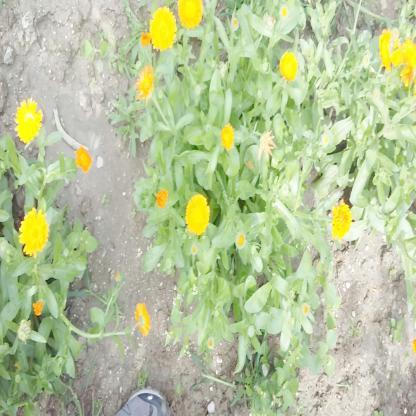marigold: (149, 6, 177, 54), (20, 211, 47, 257), (328, 195, 353, 243), (15, 100, 43, 142), (378, 25, 403, 71), (186, 193, 209, 236), (398, 36, 416, 88), (135, 64, 157, 100), (177, 0, 204, 29), (133, 298, 152, 338), (74, 142, 92, 177), (280, 50, 298, 83), (220, 121, 235, 150)
